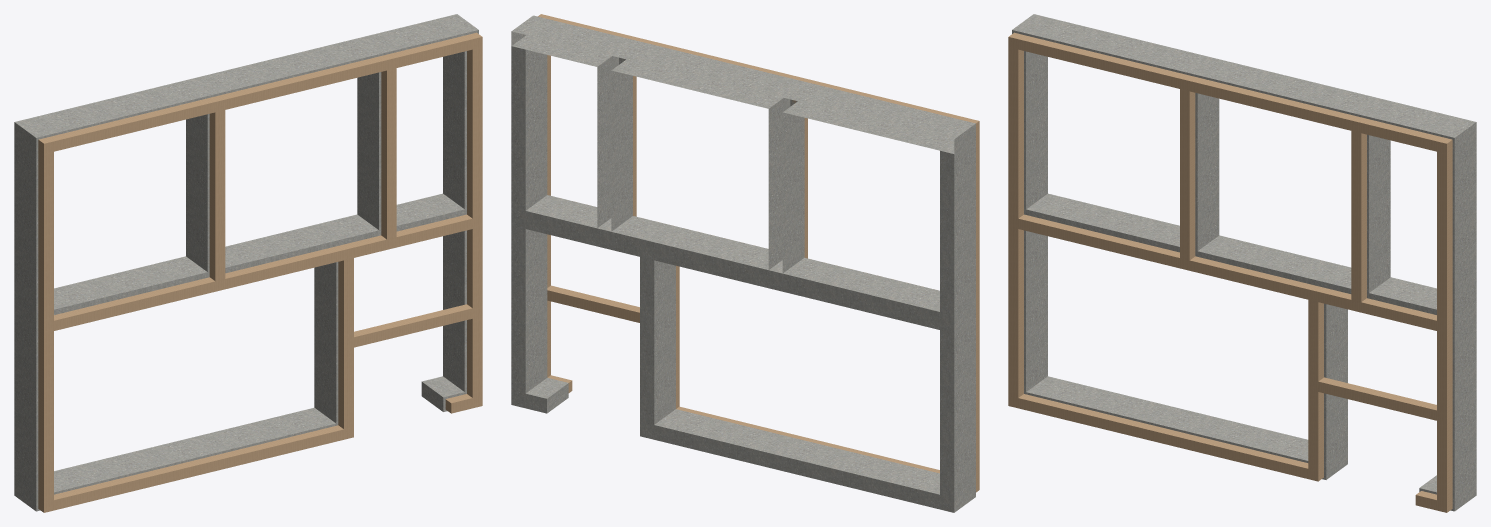
The picture shows the model from 3 angles, left to right: view 1: azimuth 30°, elevation 25°; view 2: azimuth 150°, elevation 25°; view 3: azimuth 330°, elevation 25°; orthographic projection.
Parts seen in each view (by area): view 1: test; view 2: test; view 3: test.
Boxes of the visible parts, <box> form: test: <box>14,14,482,512</box>; test: <box>511,14,979,512</box>; test: <box>1008,14,1476,512</box>.
Size of the model in its own units: 4700 by 3790 by 505.
